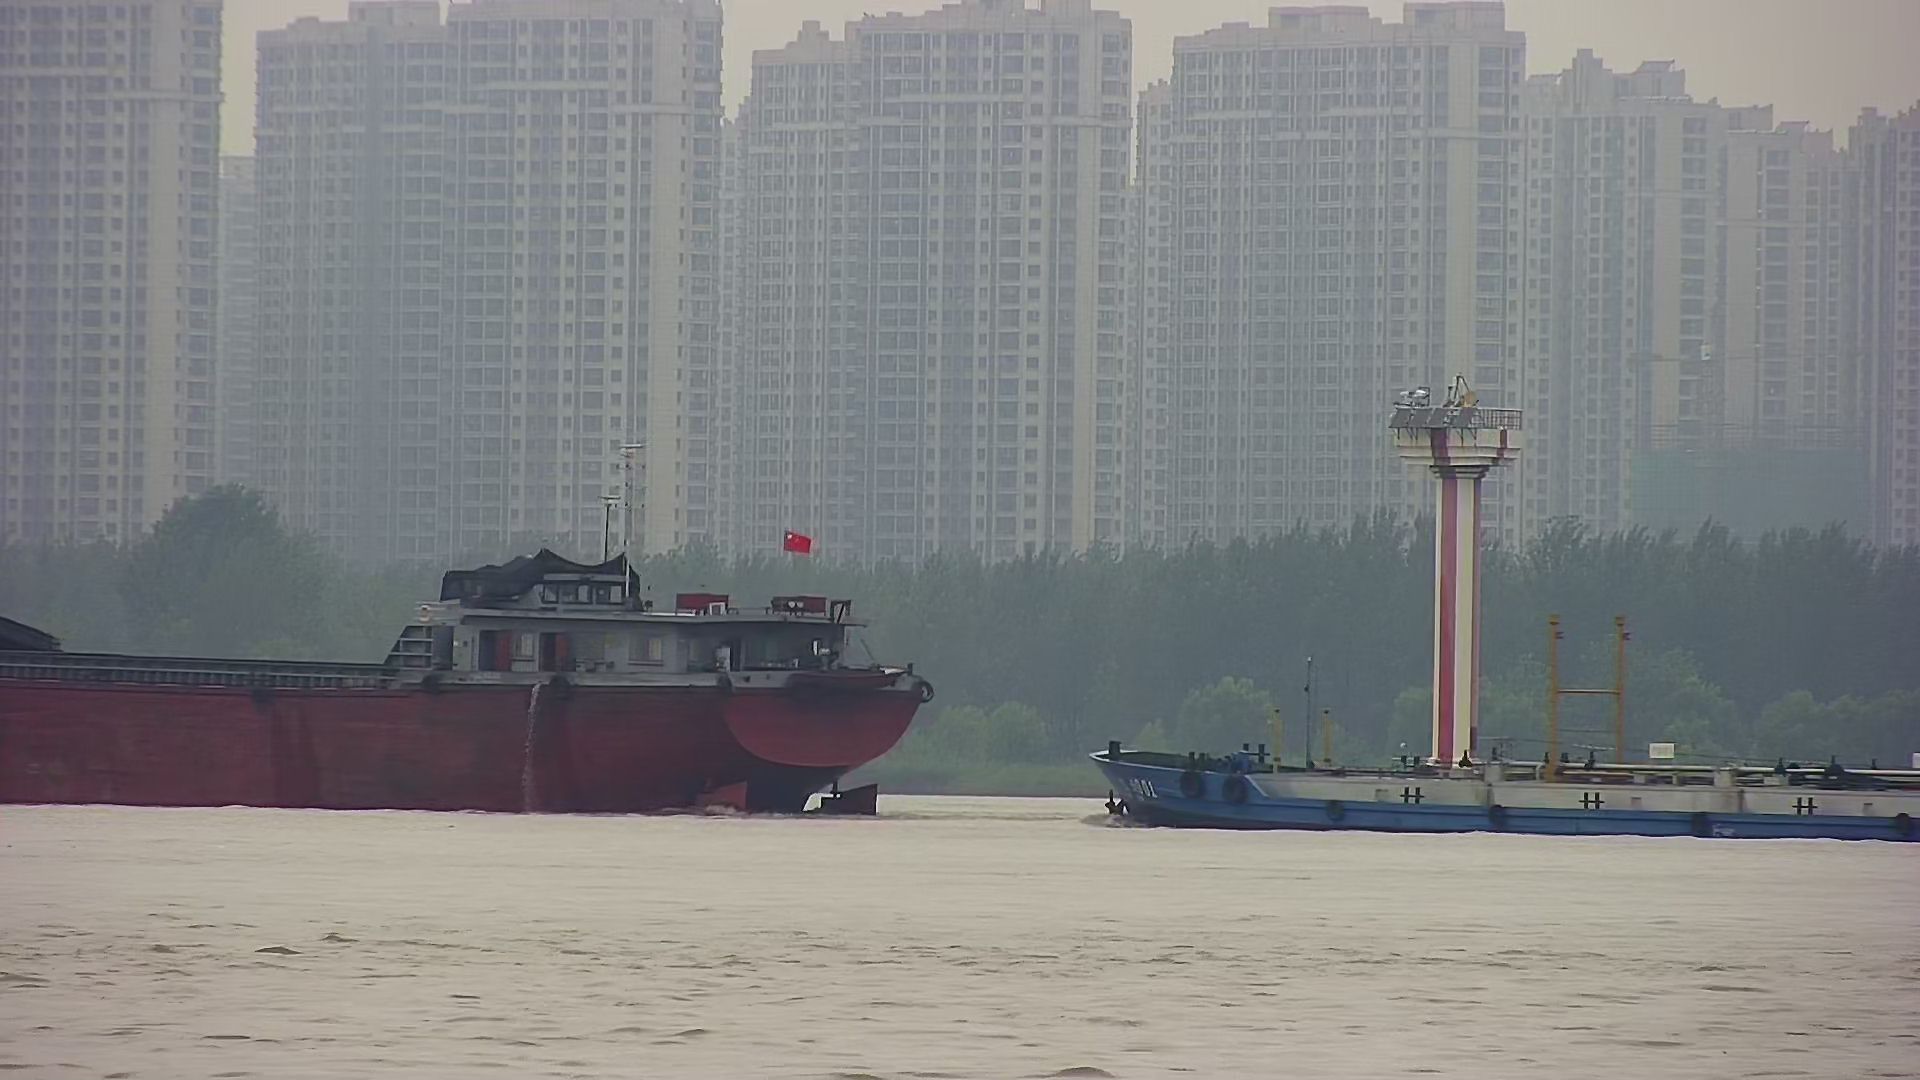platform: (1396, 372, 1520, 764)
ship: (3, 541, 930, 818), (1083, 607, 1920, 840)
